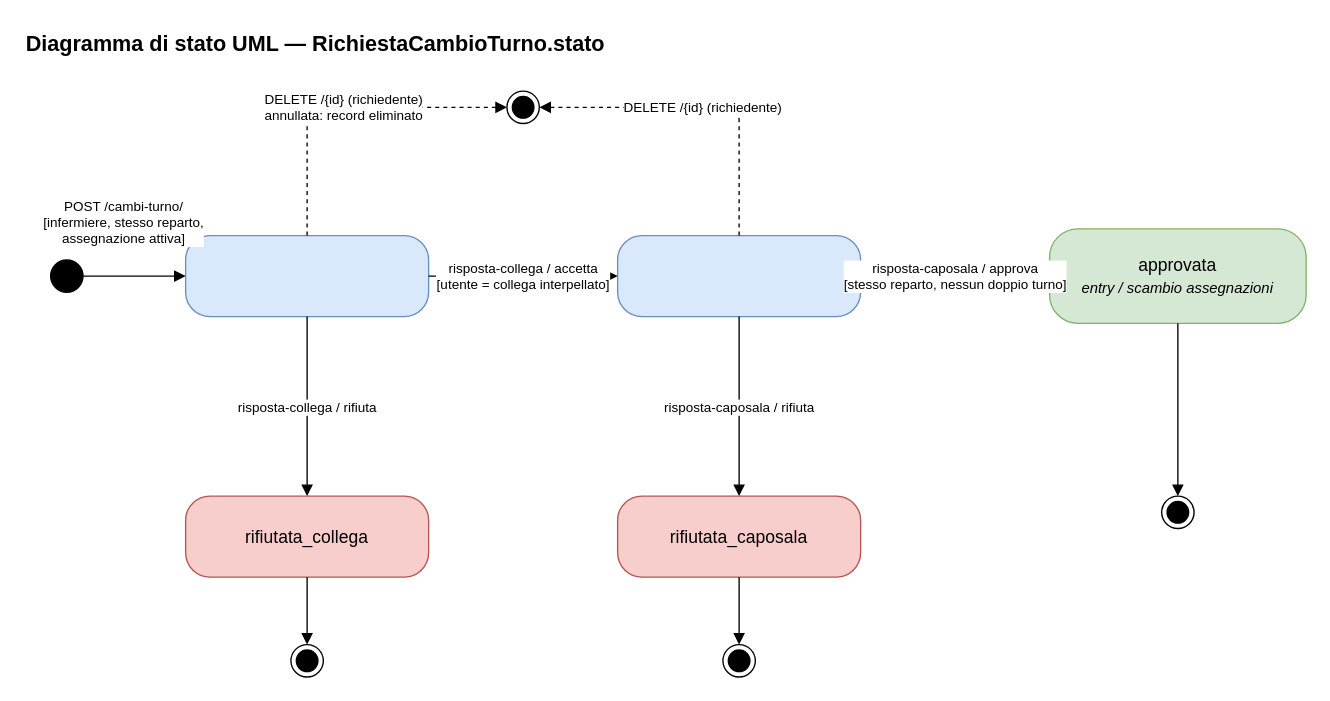
Some shapes in this 1330 by 701 pixel diagram are drawn without their labels. The centre of each missing label's shape, as x and y in pixels:
"in_attesa_caposala" goes at (x=738, y=275).
"in_attesa_collega" goes at (x=306, y=275).
